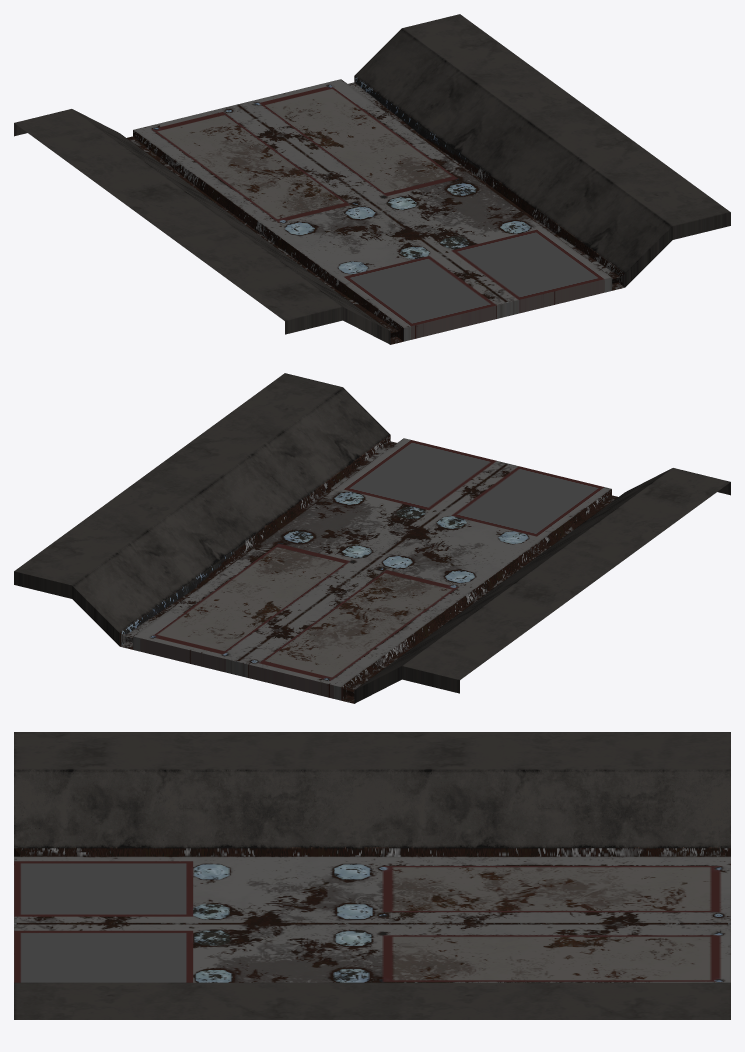
File: ground.fbx
3 renders of one model, top to bottom at view 1: azimuth 30°, elevation 25°; view 2: azimuth 150°, elevation 25°; view 3: azimuth 270°, elevation 25°, orthographic. The views are drawn at different scales.
Parts seen in each view (by area): view 1: pPlane1; view 2: pPlane1; view 3: pPlane1.
Part boxes in pixels (x1,y1,x2,y2): pPlane1: (14, 14, 730, 344); pPlane1: (14, 373, 730, 703); pPlane1: (14, 732, 730, 1019).
Size of the model in its own units: 19.1 by 2.03 by 20.09.
1 material, 1 textured.
